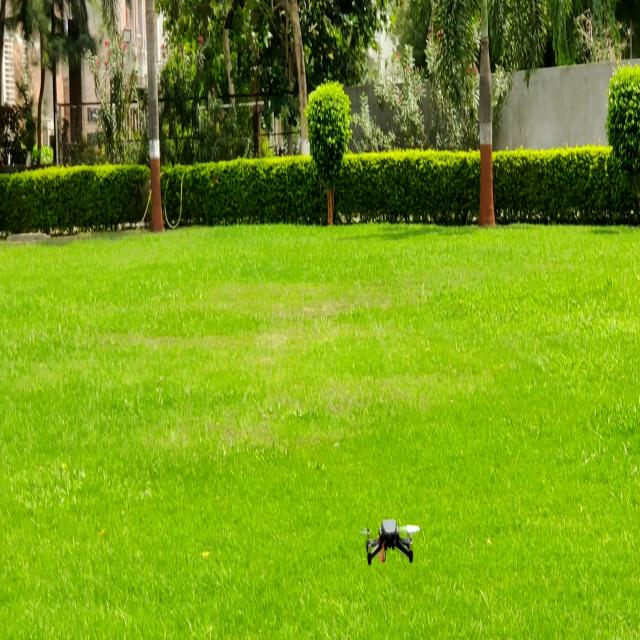drone: (352, 518, 426, 572)
